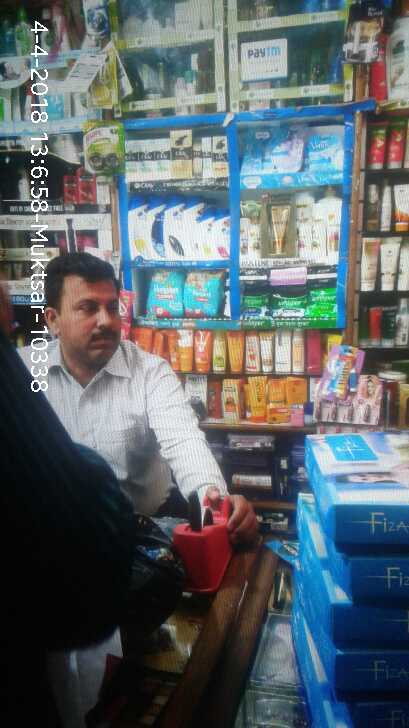venus: (242, 125, 276, 173), (307, 134, 342, 171), (277, 127, 302, 172)
